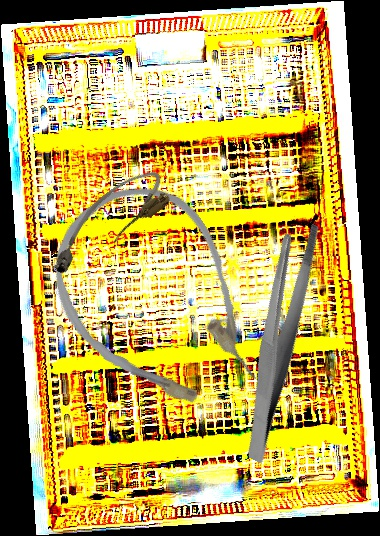Cannula: (22, 159, 293, 447), (36, 161, 177, 283)
Dressing Forceps: (187, 215, 370, 464)
